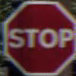Stop: (2, 2, 73, 71)
